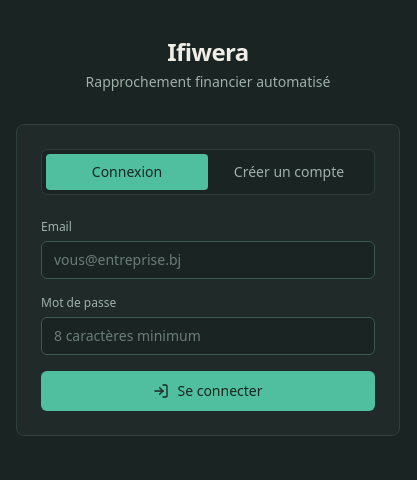
LoginScreen › affiche le message d'erreur renvoyé par le serveur en cas d'échec de connexion
The image size is (417, 480).
Type "a@b.bj" into the field labelled "Email".
click(208, 260); type("a@b.bj")  # box [41,241,375,279]
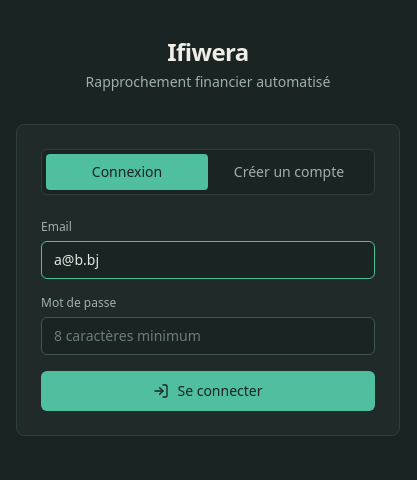
Type "mauvaismotdepasse" into the password field labelled "Mot de passe".
click(208, 336); type("mauvaismotdepasse")  # box [41,317,375,355]
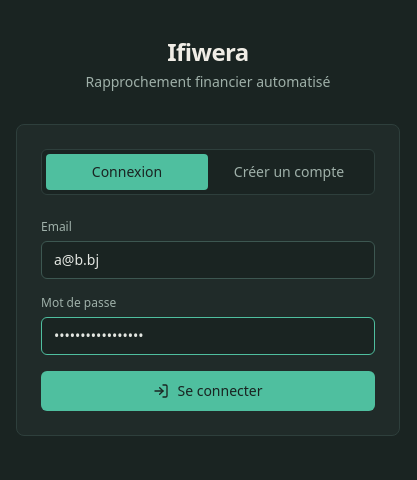
Click the button "Se connecter".
click(208, 391)  # box [41,371,375,411]
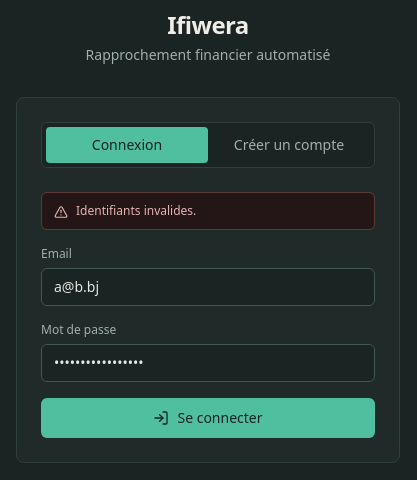
Expected: the text "Identifiants invalides." is shown, [41,192,375,230]
